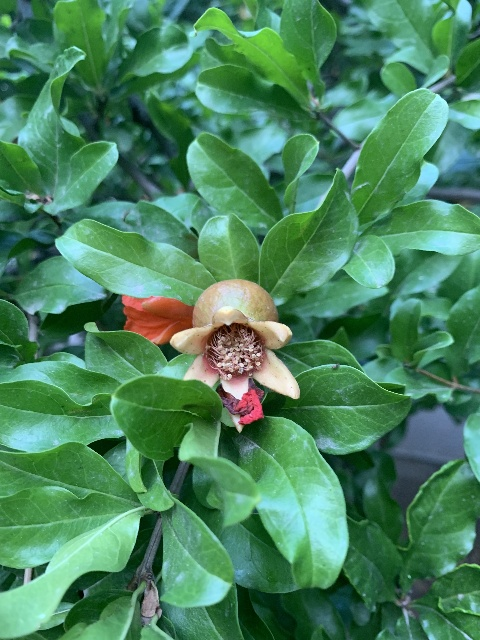early-fruit: (169, 279, 300, 429)
flower: (121, 293, 194, 345)
